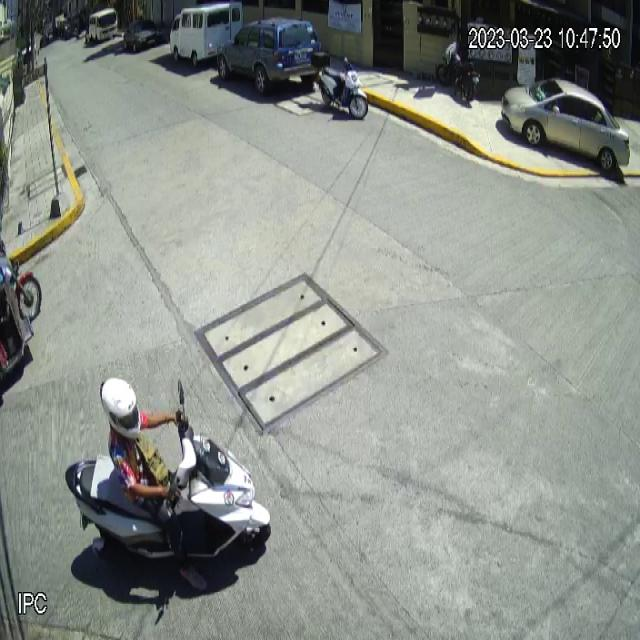Car: (501, 76, 630, 170), (217, 16, 322, 95)
Motorcycle: (62, 377, 272, 570), (311, 51, 368, 120)
Van: (169, 0, 244, 68)
